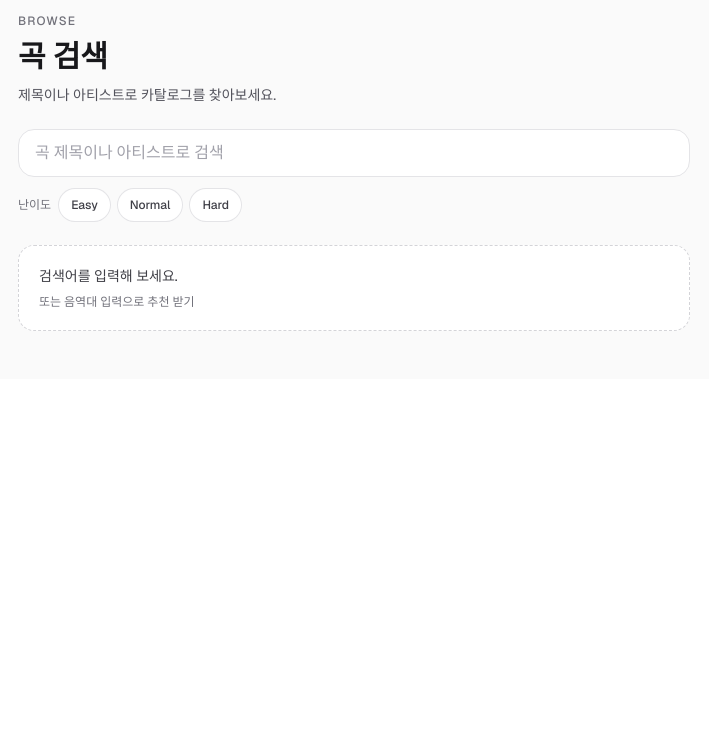
Scenario: SongSearchPage › 난이도 필터 칩을 누르면 응답을 client-side 필터링한다
Type "song" into the search field with placeholder "곡 제목이나 아티스트로 검색" at (354, 153), box [18,129,690,177]
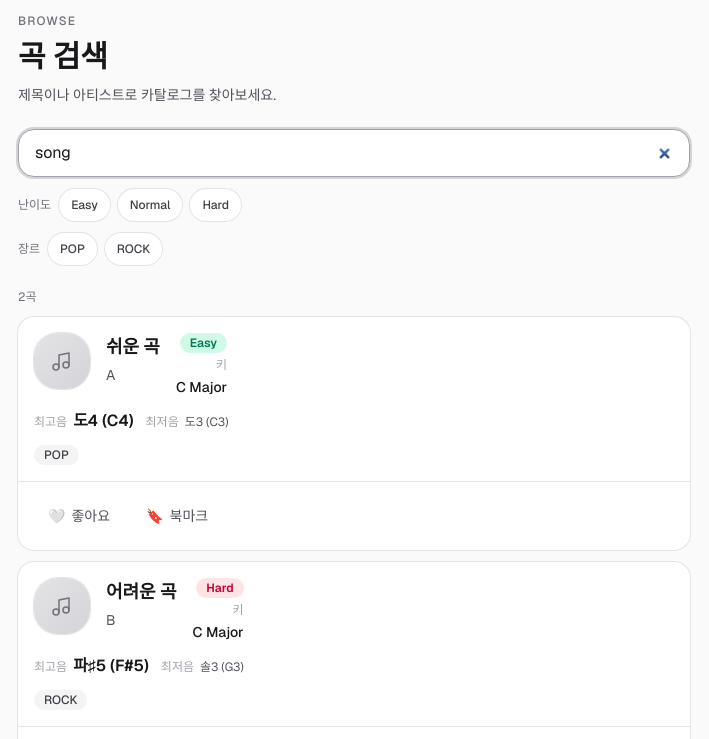
Now the heading "쉬운 곡" is shown, box [106,333,160,361]
Now the heading "어려운 곡" is shown, box [106,578,176,606]
Hard 필터 → 어려운 곡만 남아야 한다.
Click the button "Hard" at (216, 205), box [190,189,241,221]
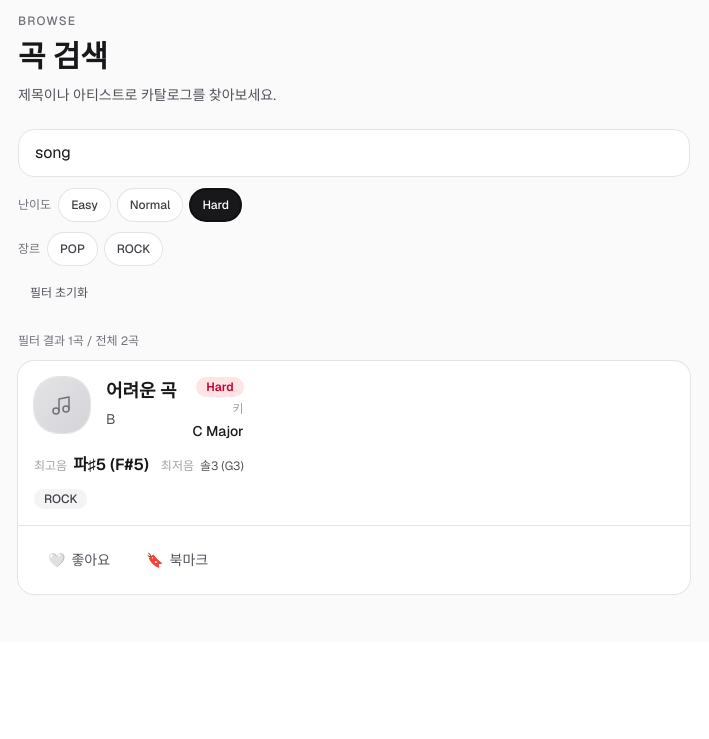
Now the heading "어려운 곡" is shown, box [106,377,176,405]
Now the button "쉬운 곡" is gone
